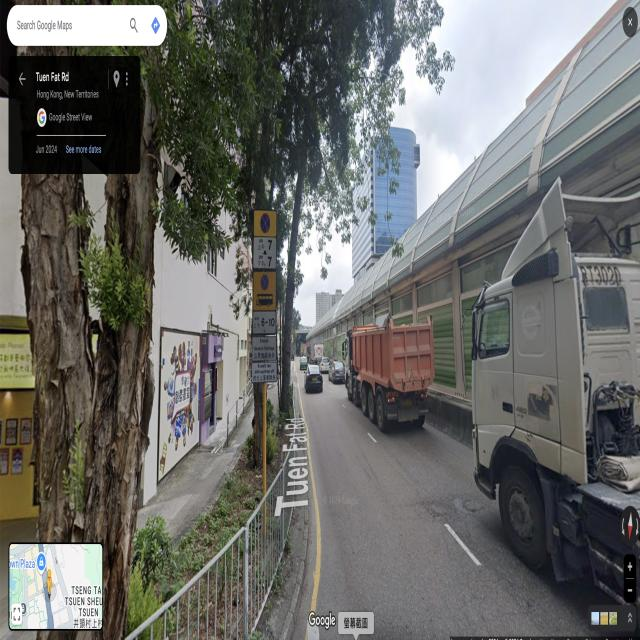Order-Sign: (254, 272, 275, 333), (255, 211, 275, 269), (253, 338, 276, 360), (252, 364, 276, 381)
